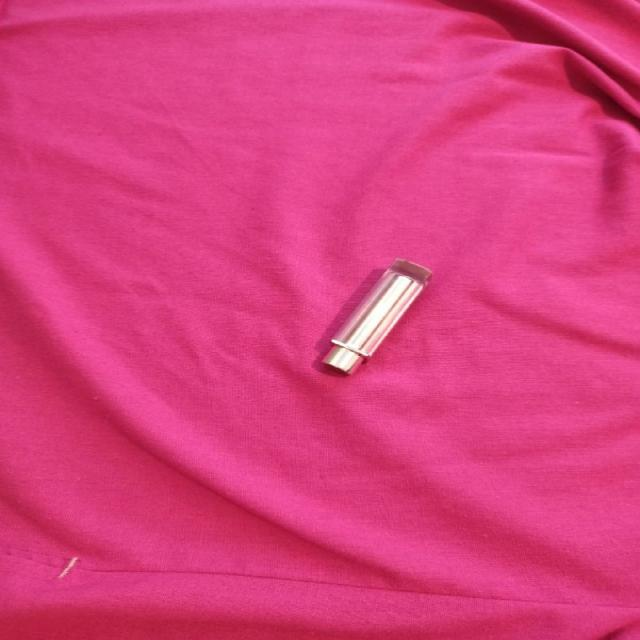lipstick: (320, 258, 432, 375)
